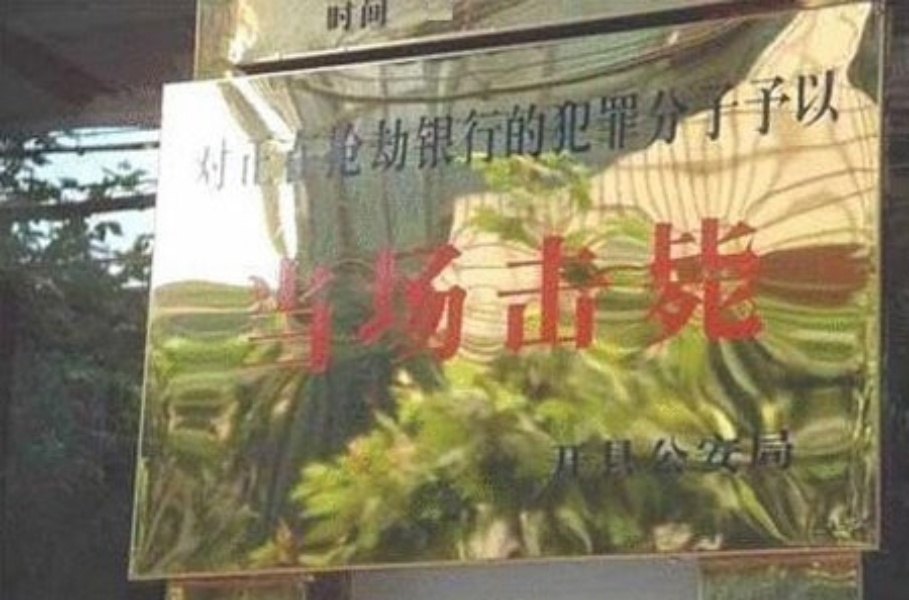text: (225, 205, 240, 392), (241, 205, 256, 392), (257, 205, 272, 392), (273, 205, 288, 392), (289, 205, 304, 392), (305, 205, 320, 392), (321, 205, 336, 392), (337, 205, 352, 392), (353, 205, 368, 392), (369, 205, 384, 392), (385, 205, 400, 392), (401, 205, 416, 392), (417, 205, 432, 392), (433, 205, 448, 392), (449, 205, 464, 392), (465, 205, 480, 392), (481, 205, 496, 392), (497, 205, 512, 392), (513, 205, 528, 392), (529, 205, 544, 392), (545, 205, 560, 392), (561, 205, 576, 392), (577, 205, 592, 392), (593, 205, 608, 392), (609, 205, 624, 392), (625, 205, 640, 392), (641, 205, 656, 392), (657, 205, 672, 392), (673, 205, 688, 392), (689, 205, 704, 392), (705, 205, 720, 392), (721, 205, 736, 392), (737, 205, 752, 392), (753, 205, 768, 392), (193, 63, 208, 198), (209, 63, 224, 198), (225, 63, 240, 198), (241, 63, 256, 198), (257, 63, 272, 198), (273, 63, 288, 198), (289, 63, 304, 198), (305, 63, 320, 198), (321, 63, 336, 198), (337, 63, 352, 198), (353, 63, 368, 198), (369, 63, 384, 198), (385, 63, 400, 198), (401, 63, 416, 198), (417, 63, 432, 198), (433, 63, 448, 198), (449, 63, 464, 198), (465, 63, 480, 198), (481, 63, 496, 198), (497, 63, 512, 198), (513, 63, 528, 198), (529, 63, 544, 198), (545, 63, 560, 198), (561, 63, 576, 198), (577, 63, 592, 198), (593, 63, 608, 198), (609, 63, 624, 198), (625, 63, 640, 198), (641, 63, 656, 198), (657, 63, 672, 198), (673, 63, 688, 198), (689, 63, 704, 198), (705, 63, 720, 198), (721, 63, 736, 198), (737, 63, 752, 198), (753, 63, 768, 198), (769, 63, 784, 198), (785, 63, 800, 198), (801, 63, 816, 198), (817, 63, 832, 198), (833, 63, 848, 198), (545, 427, 560, 485), (561, 427, 576, 485), (577, 427, 592, 485), (593, 427, 608, 485), (609, 427, 624, 485), (625, 427, 640, 485), (641, 427, 656, 485), (657, 427, 672, 485), (673, 427, 688, 485), (689, 427, 704, 485), (705, 427, 720, 485), (721, 427, 736, 485), (737, 427, 752, 485), (753, 427, 768, 485), (769, 427, 784, 485), (785, 427, 800, 485), (769, 205, 772, 392), (188, 63, 192, 198), (337, 1, 352, 31), (353, 1, 368, 31), (369, 1, 384, 31), (849, 63, 851, 198), (328, 1, 336, 31), (385, 1, 390, 31), (542, 427, 544, 485)
